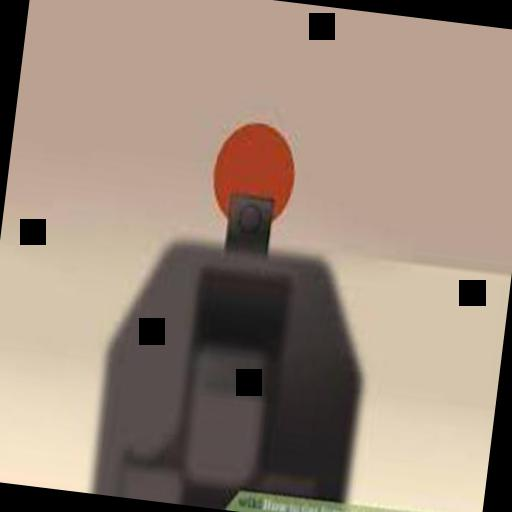Handgun: (89, 85, 390, 512)
